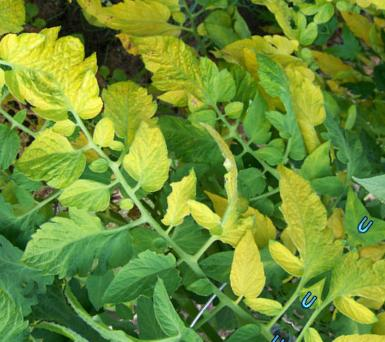Tomato leaf yellow virus: (112, 10, 243, 132), (224, 36, 355, 158), (240, 165, 366, 288), (2, 185, 112, 296), (96, 103, 200, 204), (204, 222, 295, 311)
